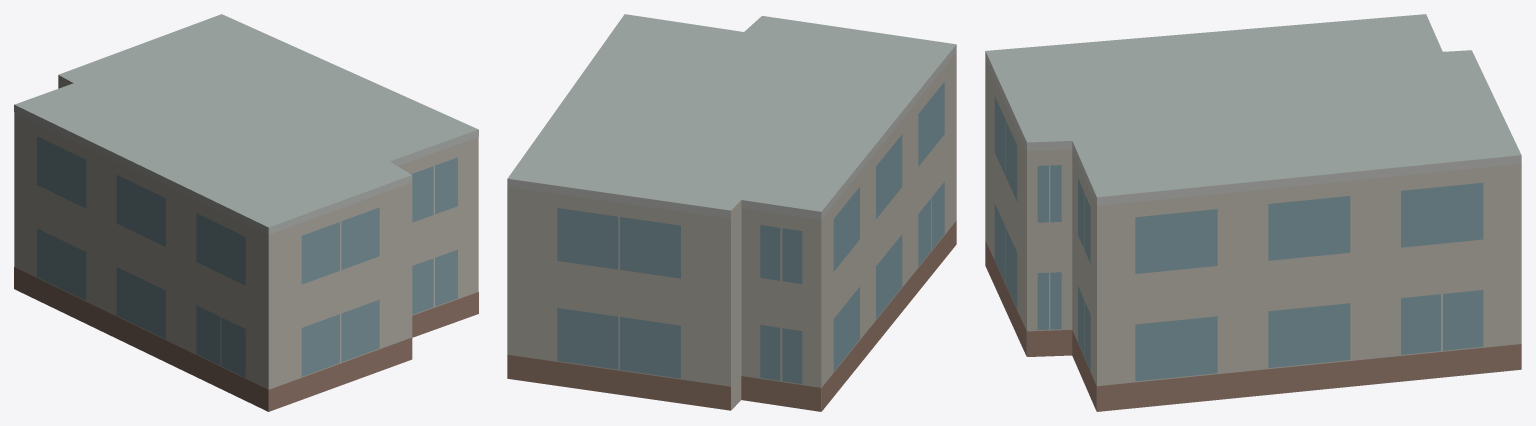
The model's file is survey-upis-32866192.glb.
3 renders of one model, left to right at view 1: azimuth 30°, elevation 25°; view 2: azimuth 150°, elevation 25°; view 3: azimuth 270°, elevation 25°, orthographic. The views are drawn at different scales.
Visible parts, largest first — view 1: survey-upis-32866192.tmp; view 2: survey-upis-32866192.tmp; view 3: survey-upis-32866192.tmp.
Boxes of the visible parts, bbox=[...] form: survey-upis-32866192.tmp: bbox=[14, 14, 478, 411]; survey-upis-32866192.tmp: bbox=[507, 14, 956, 411]; survey-upis-32866192.tmp: bbox=[985, 14, 1521, 411].
Size of the model in its own units: 11.19 by 6.1 by 13.83.
